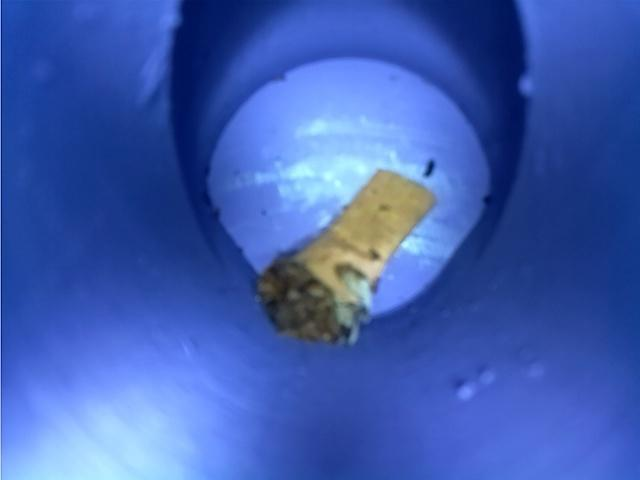megot: (247, 166, 449, 357)
